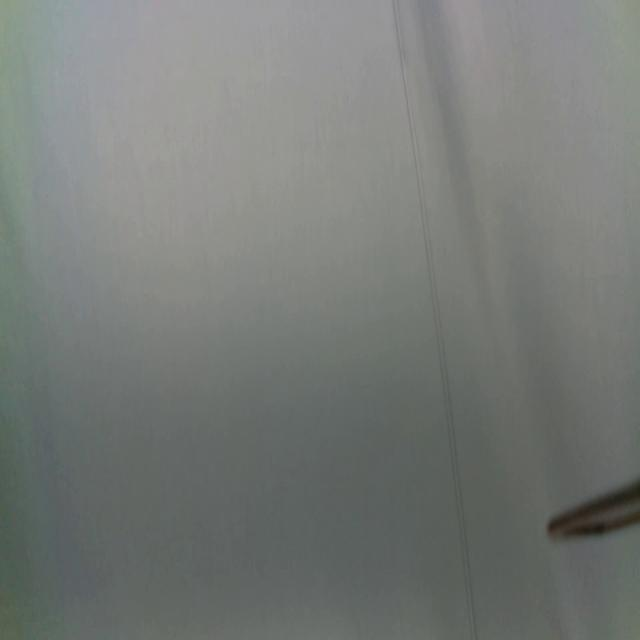crease: (393, 0, 477, 640)
